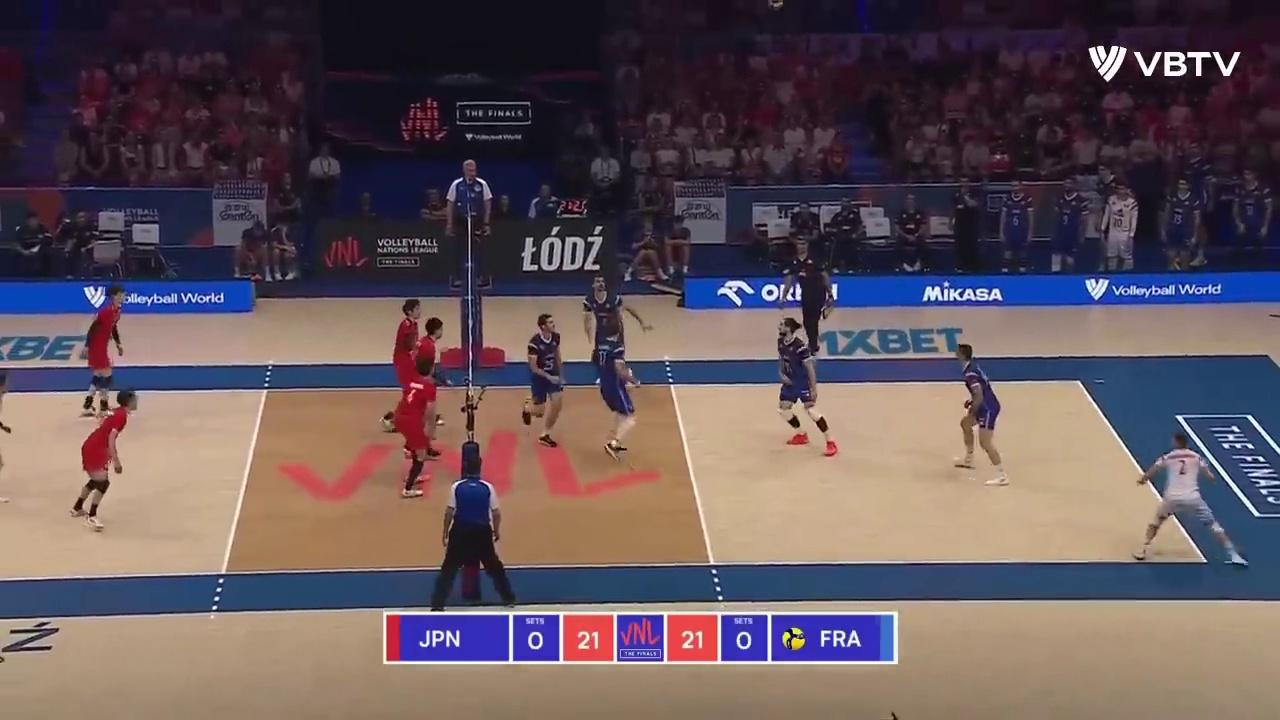ball: (767, 0, 782, 9)
